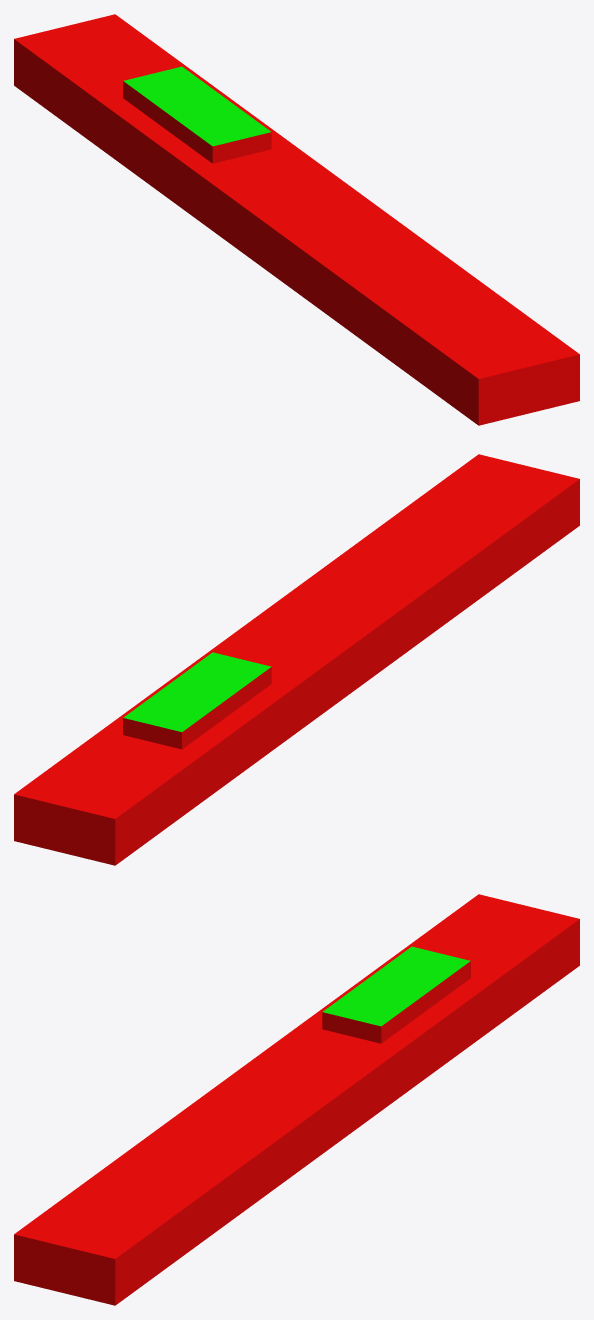
The model's file is labeled.obj.
3 renders of one model, top to bottom at view 1: azimuth 30°, elevation 25°; view 2: azimuth 150°, elevation 25°; view 3: azimuth 330°, elevation 25°, orthographic.
Size of the model in its own units: 0.0185 by 0.0112 by 0.147.
